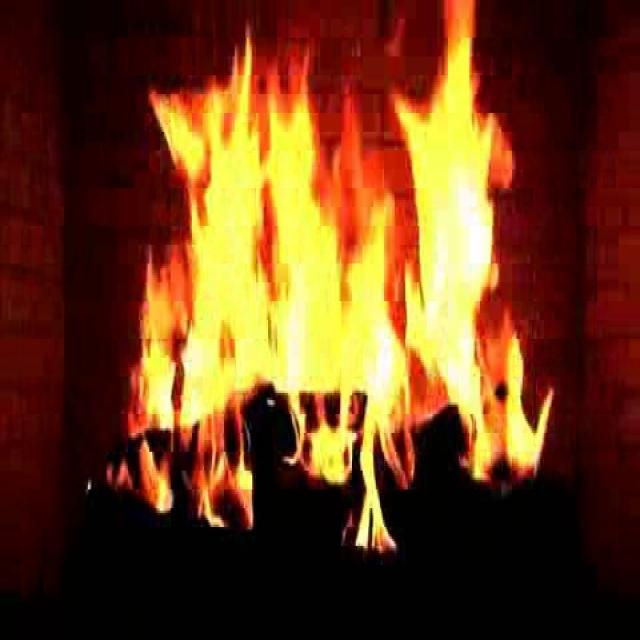Fire: (82, 3, 568, 590)
